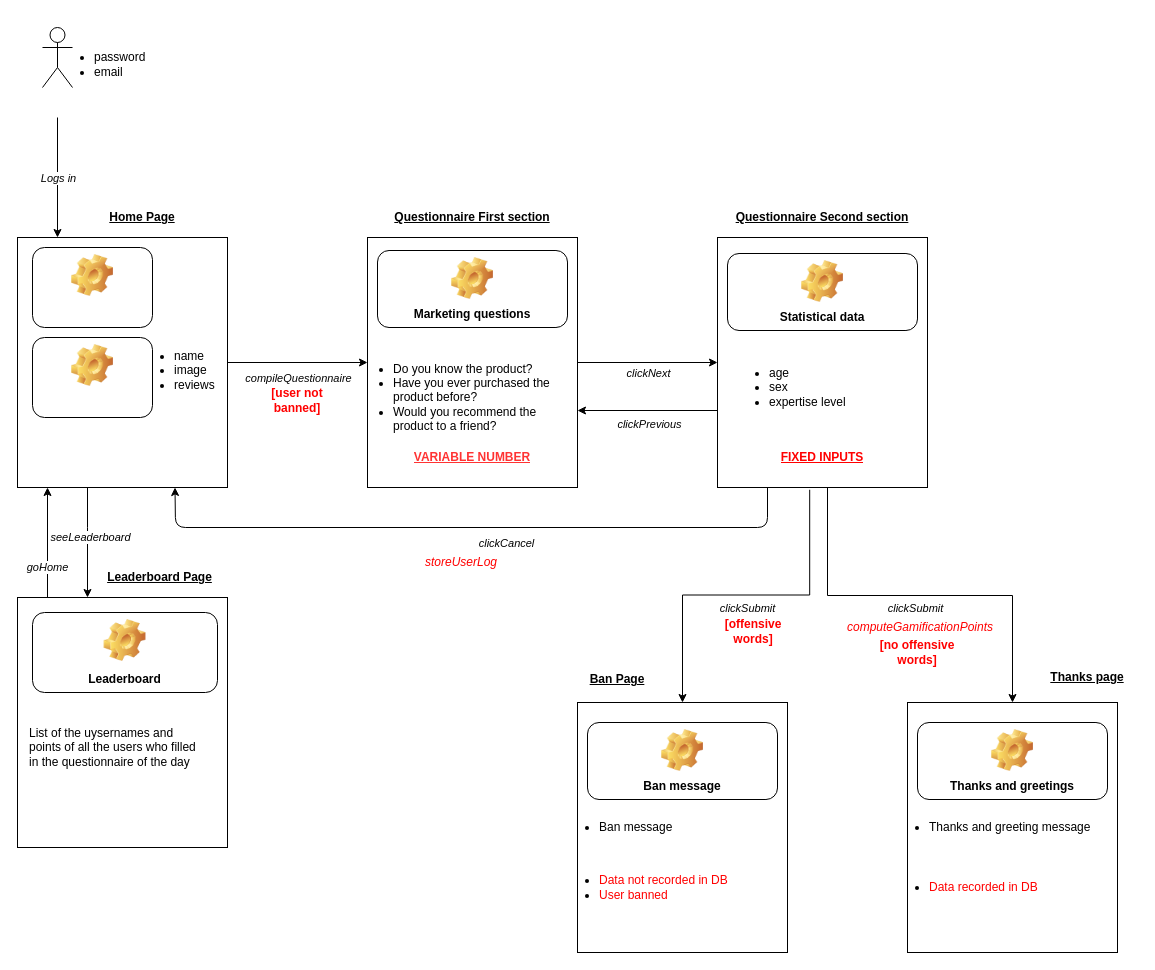
Image size: 1155x970. Some labels were removed from this diagram. Each missing label, with the centre of its shape:
"Product of the day" goes at point 92,377.
"Questionnaire of the day" goes at point 92,287.
"User" goes at point 57,57.
